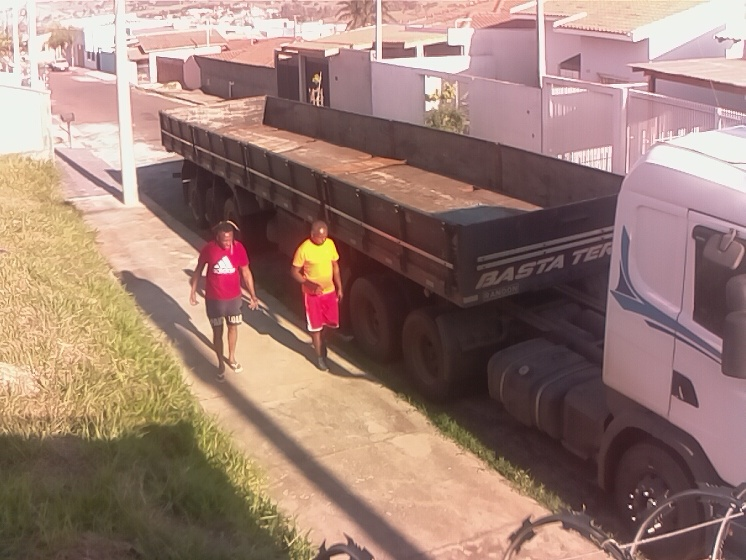person: (187, 218, 264, 383), (288, 218, 347, 375)
